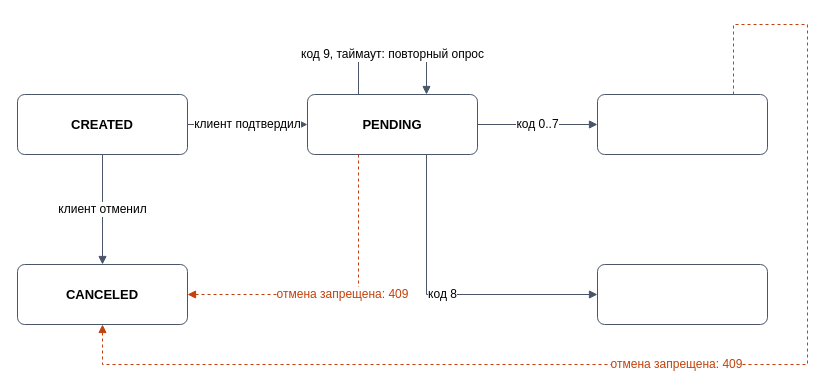
This 833x390 diagram has some shape labels left out. The shapes that lost their labels are listed below. From the top down, each one's box as (x1, y1, x2, y2) in pixels, then its label:
(596, 94, 768, 154): SUCCESS
(596, 264, 768, 324): DECLINED
